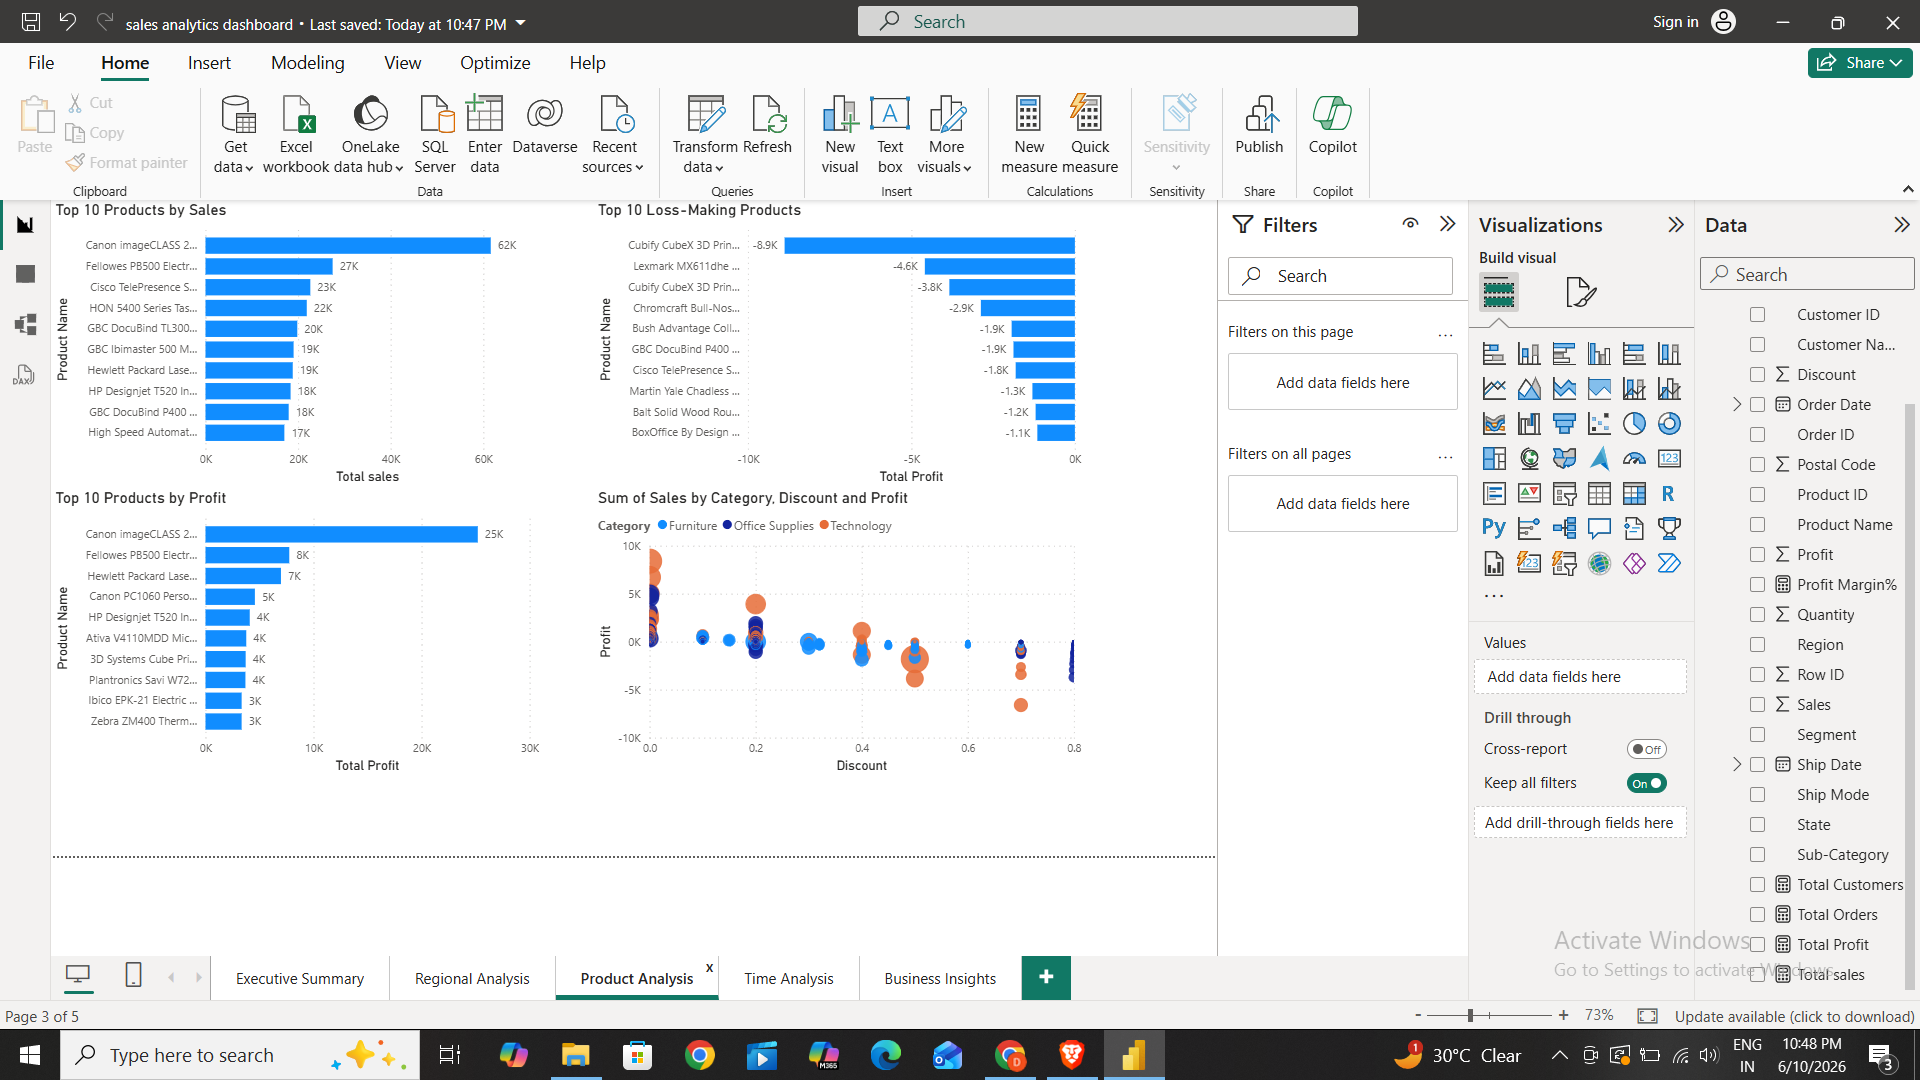

Layout of this report page (visuals, bound fields, positions):
{"tool":"powerbi","page":{"name":"Product Analysis","canvas":[1280,720],"ordinal":2},"visuals":[{"type":"barChart","title":"Top 10 Products by Sales","fields":{"Category":["SSRD.Product Name"],"Y":["SSRD.Total sales"]},"box":[0,0,540.7,317],"z":0},{"type":"barChart","title":"Top 10 Products by Profit","fields":{"Category":["SSRD.Product Name"],"Y":["SSRD.Total Profit"]},"box":[0,317,540.7,317],"z":1000},{"type":"barChart","title":"Top 10 Loss-Making Products","fields":{"Category":["SSRD.Product Name"],"Y":["SSRD.Total Profit"]},"box":[595.5,0,540.7,317],"z":2000},{"type":"scatterChart","fields":{"X":["SSRD.Discount"],"Y":["SSRD.Profit"],"Size":["Sum(SSRD.Sales)"],"Series":["SSRD.Category"]},"box":[595.5,317,540.7,317],"z":3000}]}

Visuals, with their boxes on the page's 1280x720 design canvas (x1, y1, x2, y2). These are canvas units, not pixel positions in the 1920x1080 screenshot, which may show the page scaled, cropped or inside an application window:
"Top 10 Products by Sales" barChart: x1=0, y1=0, x2=541, y2=317
"Top 10 Products by Profit" barChart: x1=0, y1=317, x2=541, y2=634
"Top 10 Loss-Making Products" barChart: x1=596, y1=0, x2=1136, y2=317
scatterChart - SSRD.Discount x SSRD.Profit: x1=596, y1=317, x2=1136, y2=634
